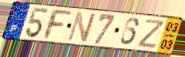5: (24, 6, 50, 39)
6: (120, 17, 140, 47)
7: (94, 13, 116, 46)
F: (42, 8, 73, 41)
N: (66, 10, 98, 43)
Z: (136, 18, 167, 49)
